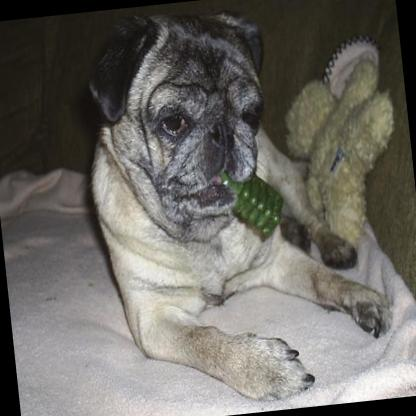pug: (72, 0, 400, 416)
